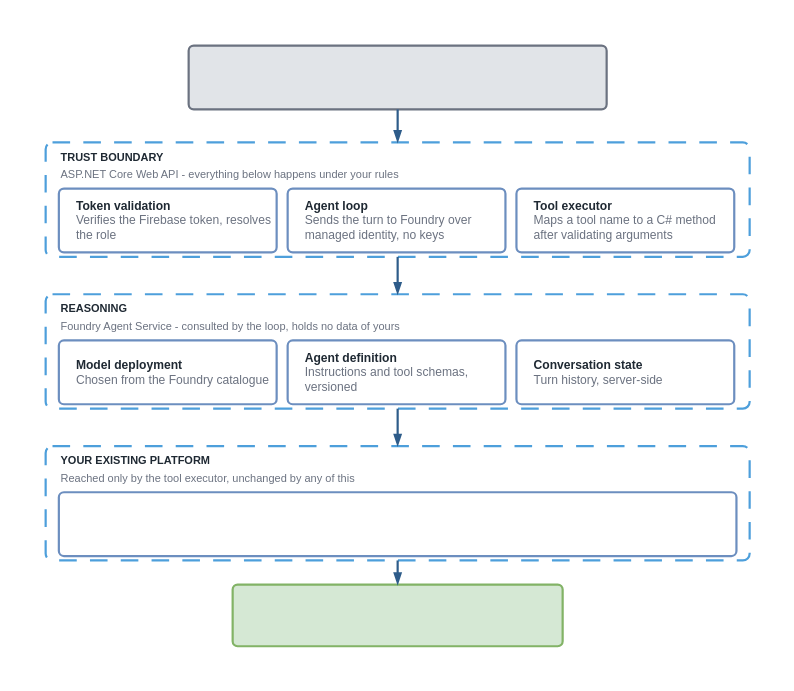
Some shapes in this 794 by 691 pixel diagram are drawn without their labels. Each missing label, with the centre of its shape:
"Business APIs and repositories The endpoints you already shipped" belongs at (397,524).
"Firestore / SQL Never learns that an agent was involved" belongs at (397,615).
"Flutter app - customer, partner, rider HTTPS, carrying a Firebase ID token" belongs at (397,77).
